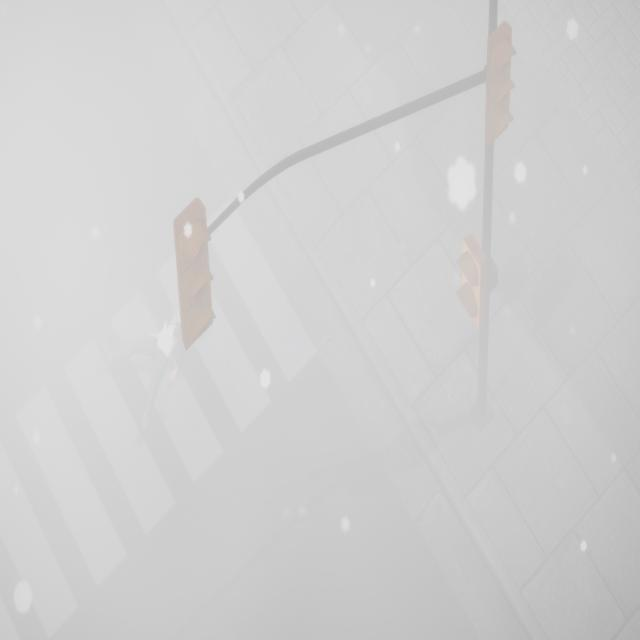Human: (119, 298, 186, 411)
